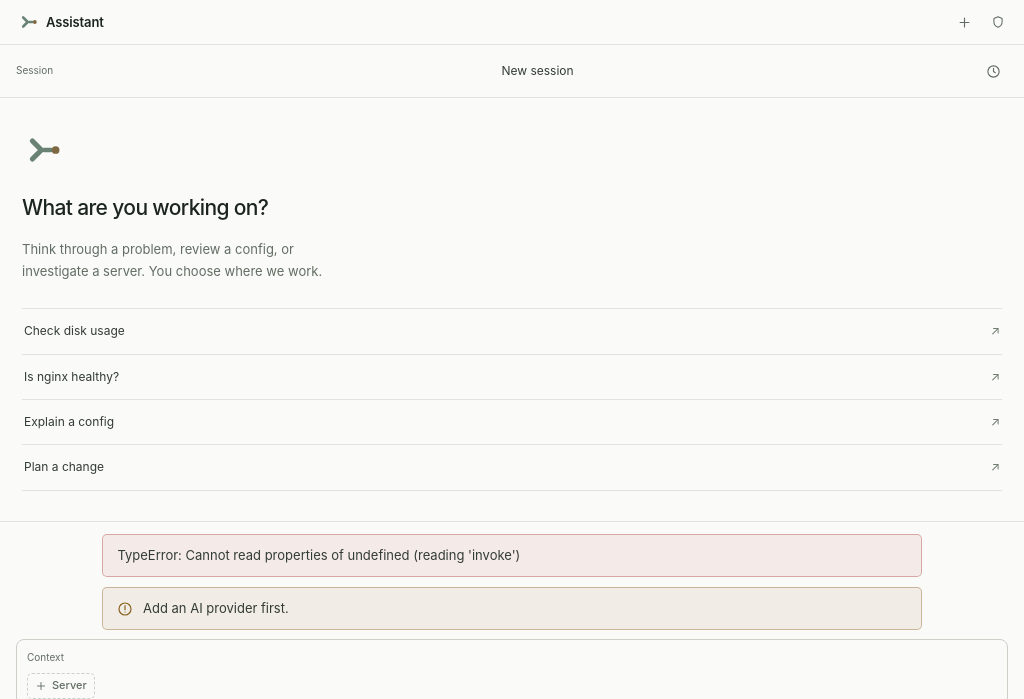
AgentPanel › keeps an unsaved session in memory and allows retrying a failed write
The image size is (1024, 699).
Replace the text in the field named "Session title" with "Recover deployment" at (732, 71), box top-left (494, 53), bottom-right (970, 89)
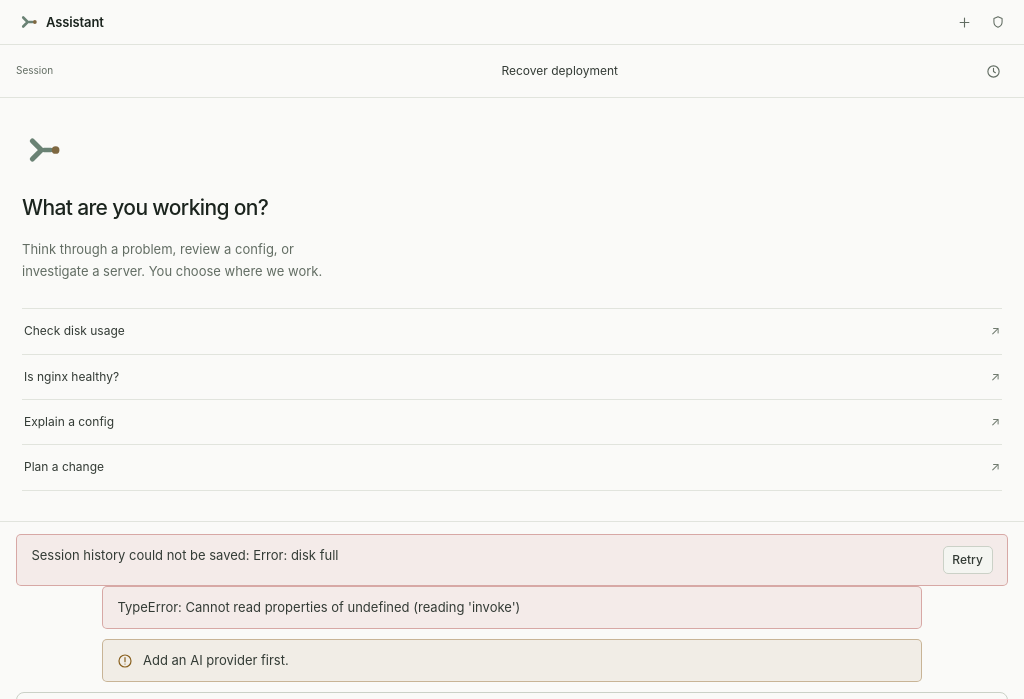
Check: the text "Session history could not be saved: Error: disk full" is shown, box top-left (31, 547), bottom-right (338, 563)
Click the button "Retry" at (968, 560), box top-left (942, 546), bottom-right (993, 574)
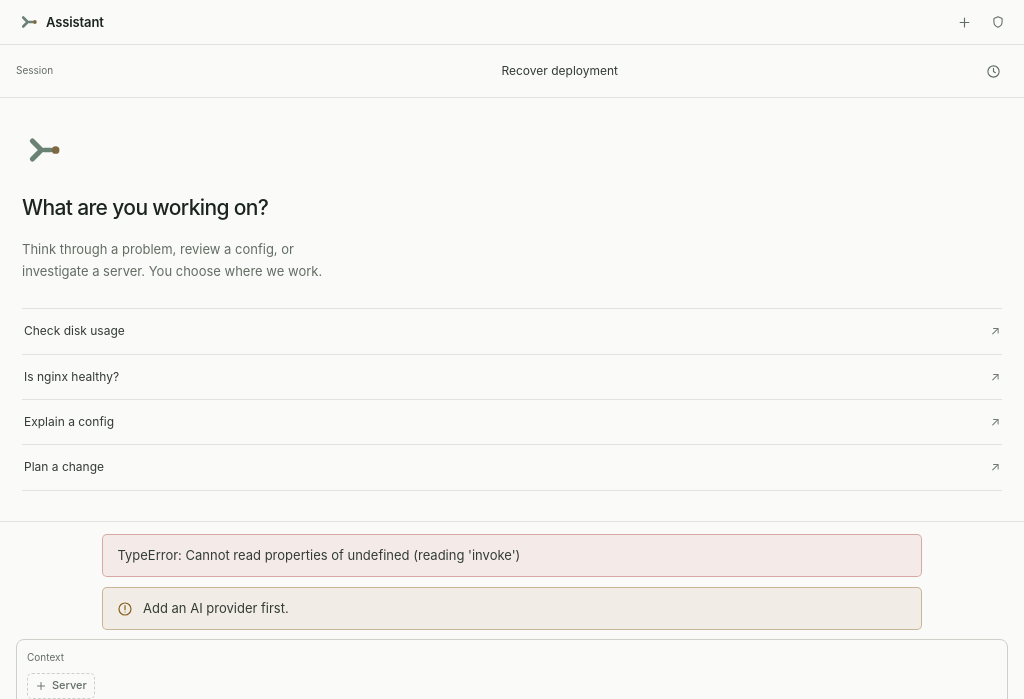
Check: the text "Session history could not be saved" is gone
